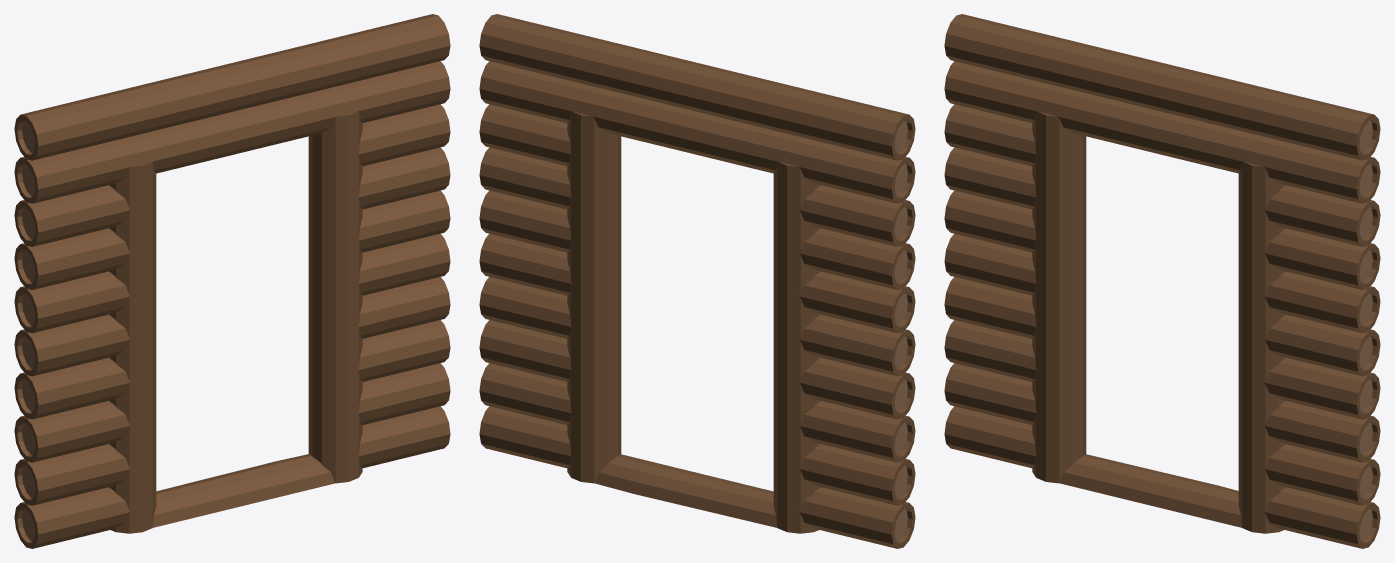
File: mesh_wood_wall_doorframe.fbx
The picture shows the model from 3 angles, left to right: view 1: azimuth 30°, elevation 25°; view 2: azimuth 150°, elevation 25°; view 3: azimuth 330°, elevation 25°; orthographic projection.
Visible parts, largest first — view 1: mesh_wood_wall_doorframe; view 2: mesh_wood_wall_doorframe; view 3: mesh_wood_wall_doorframe.
Boxes of the visible parts, <box> form: mesh_wood_wall_doorframe: <box>14,14,450,548</box>; mesh_wood_wall_doorframe: <box>479,14,915,548</box>; mesh_wood_wall_doorframe: <box>944,14,1380,548</box>.
Bounding box in the file's own units: 2 × 2 × 0.2269.
